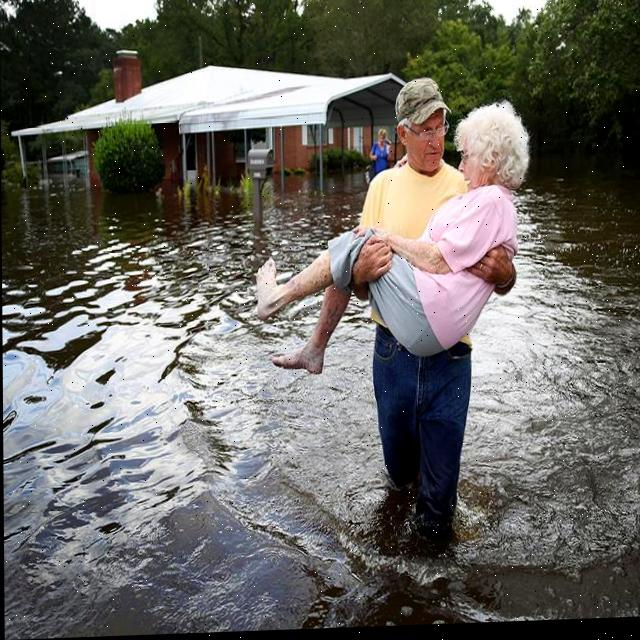civilian: (199, 93, 563, 389), (354, 64, 479, 553), (359, 120, 399, 183)
